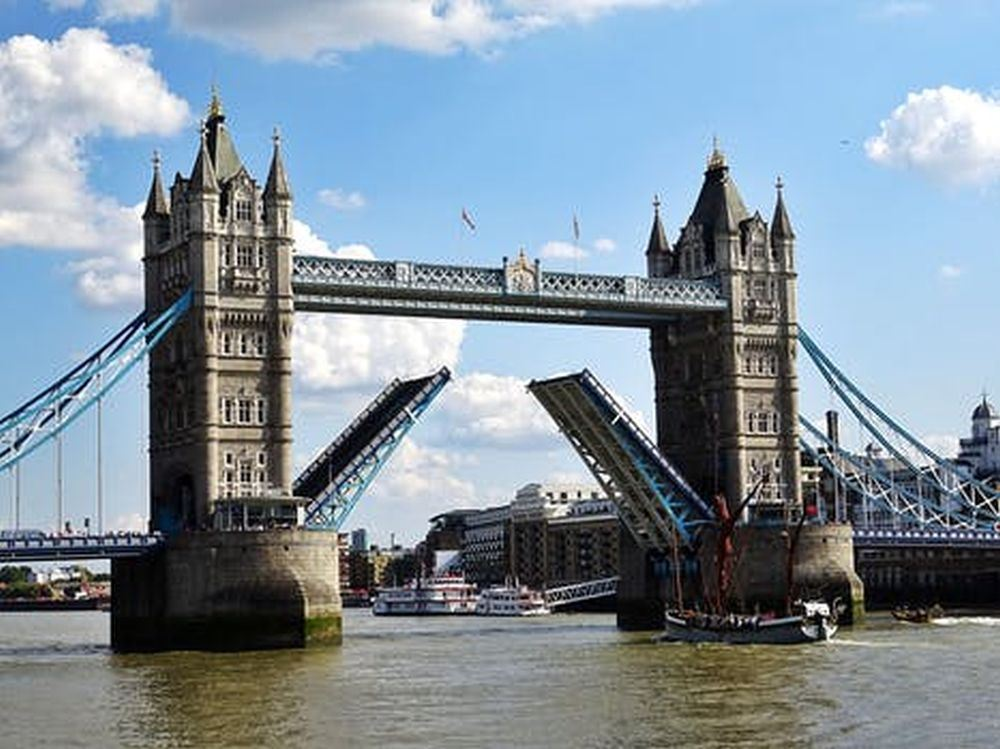bridge: (1, 87, 1000, 556)
